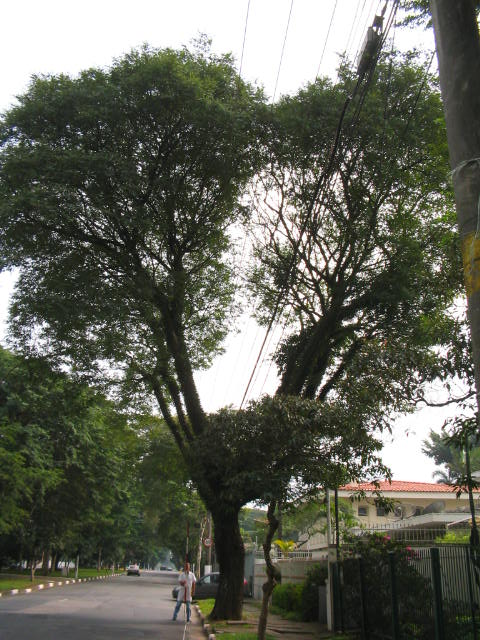crown: (5, 26, 469, 403), (202, 400, 393, 519)
stem: (201, 509, 256, 622), (249, 510, 286, 636)
stick: (177, 520, 194, 621)
tree: (3, 26, 474, 622), (199, 397, 395, 639)
